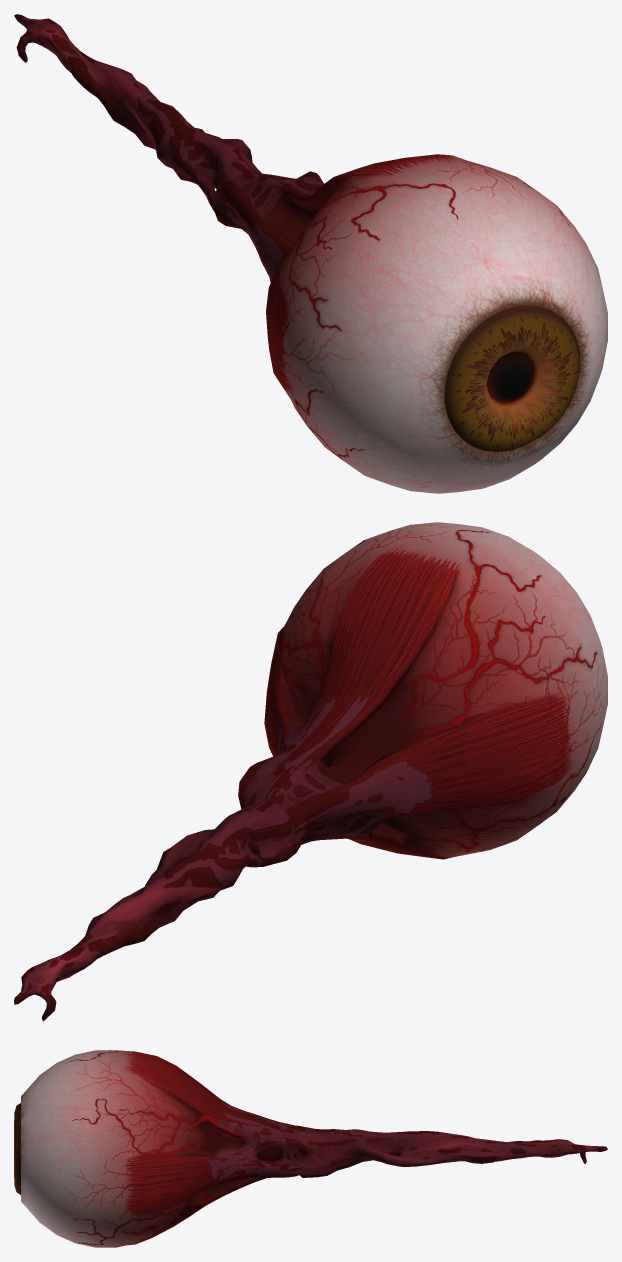
The model's file is Guts_eyeball.fbx.
3 renders of one model, top to bottom at view 1: azimuth 30°, elevation 25°; view 2: azimuth 150°, elevation 25°; view 3: azimuth 270°, elevation 25°, orthographic. The views are drawn at different scales.
Visible parts, largest first — view 1: node_id191; view 2: node_id191; view 3: node_id191.
Part boxes in pixels (left/top/right/bottom): node_id191: left=14, top=14, right=607, bottom=493; node_id191: left=14, top=522, right=607, bottom=1021; node_id191: left=14, top=1050, right=607, bottom=1247.
Size of the model in its own units: 0.3553 by 0.3574 by 1.08.
1 material, 1 textured.
